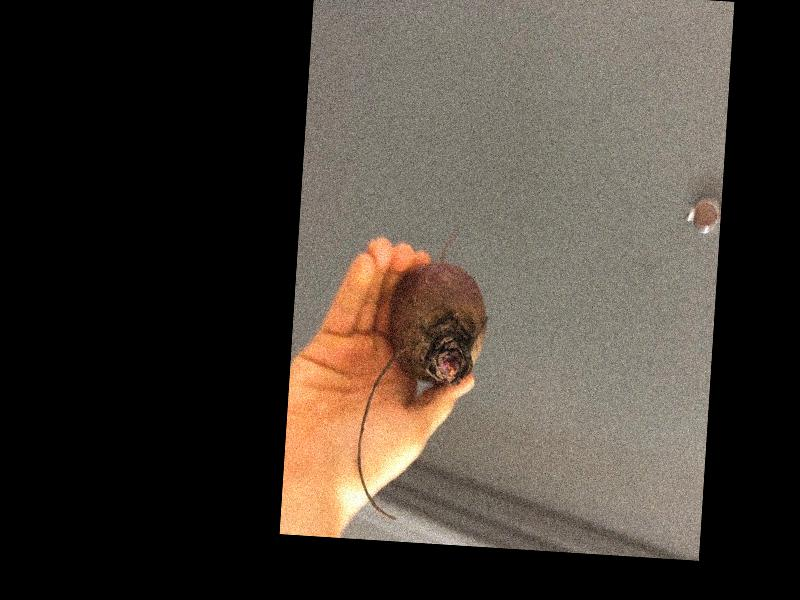Beet: (352, 227, 491, 524)
